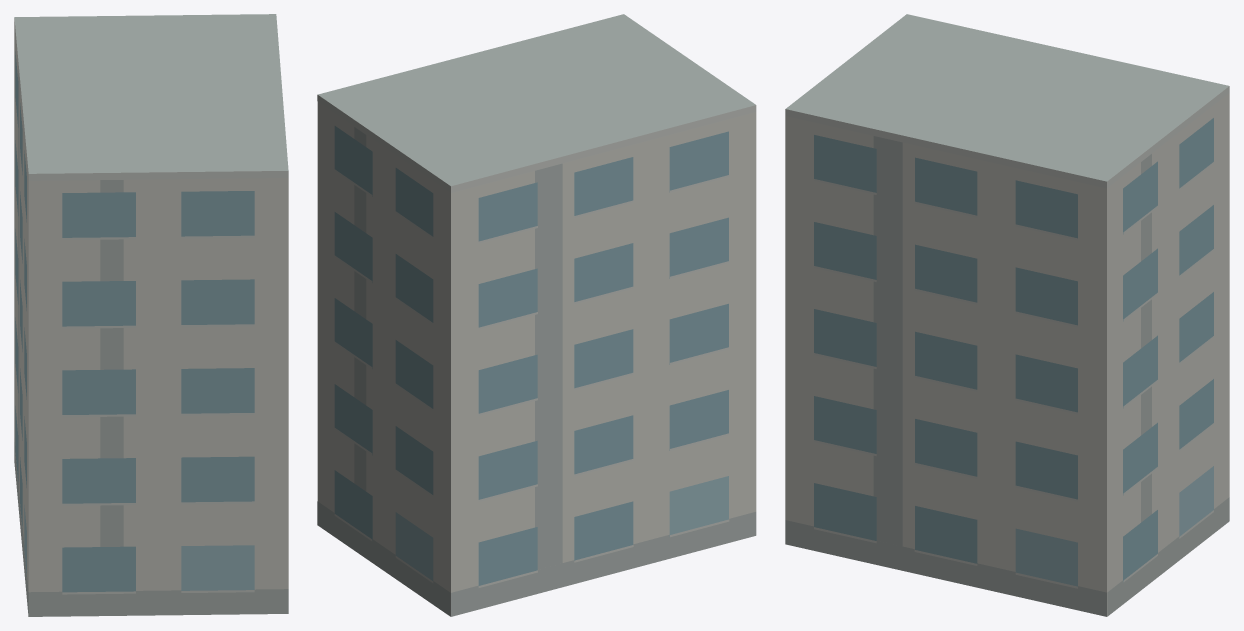
The model's file is survey-upis-32634643.glb.
The picture shows the model from 3 angles, left to right: view 1: azimuth 30°, elevation 25°; view 2: azimuth 150°, elevation 25°; view 3: azimuth 270°, elevation 25°; orthographic projection. The views are drawn at different scales.
Visible parts, largest first — view 1: survey-upis-32634643.tmp; view 2: survey-upis-32634643.tmp; view 3: survey-upis-32634643.tmp.
Part boxes in pixels (<box>): survey-upis-32634643.tmp: <box>14,14,288,616</box>; survey-upis-32634643.tmp: <box>317,14,756,616</box>; survey-upis-32634643.tmp: <box>785,14,1229,616</box>.
Bounding box in the file's own units: 12.6 × 15.25 × 14.12.
